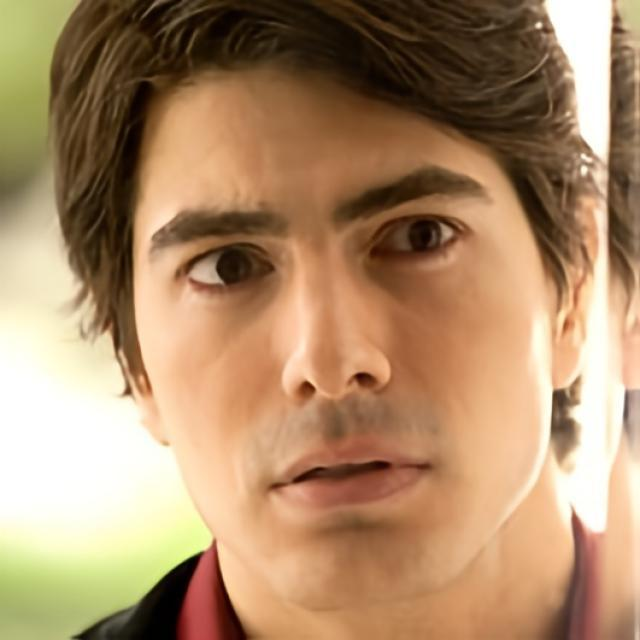fear: (125, 68, 542, 602)
